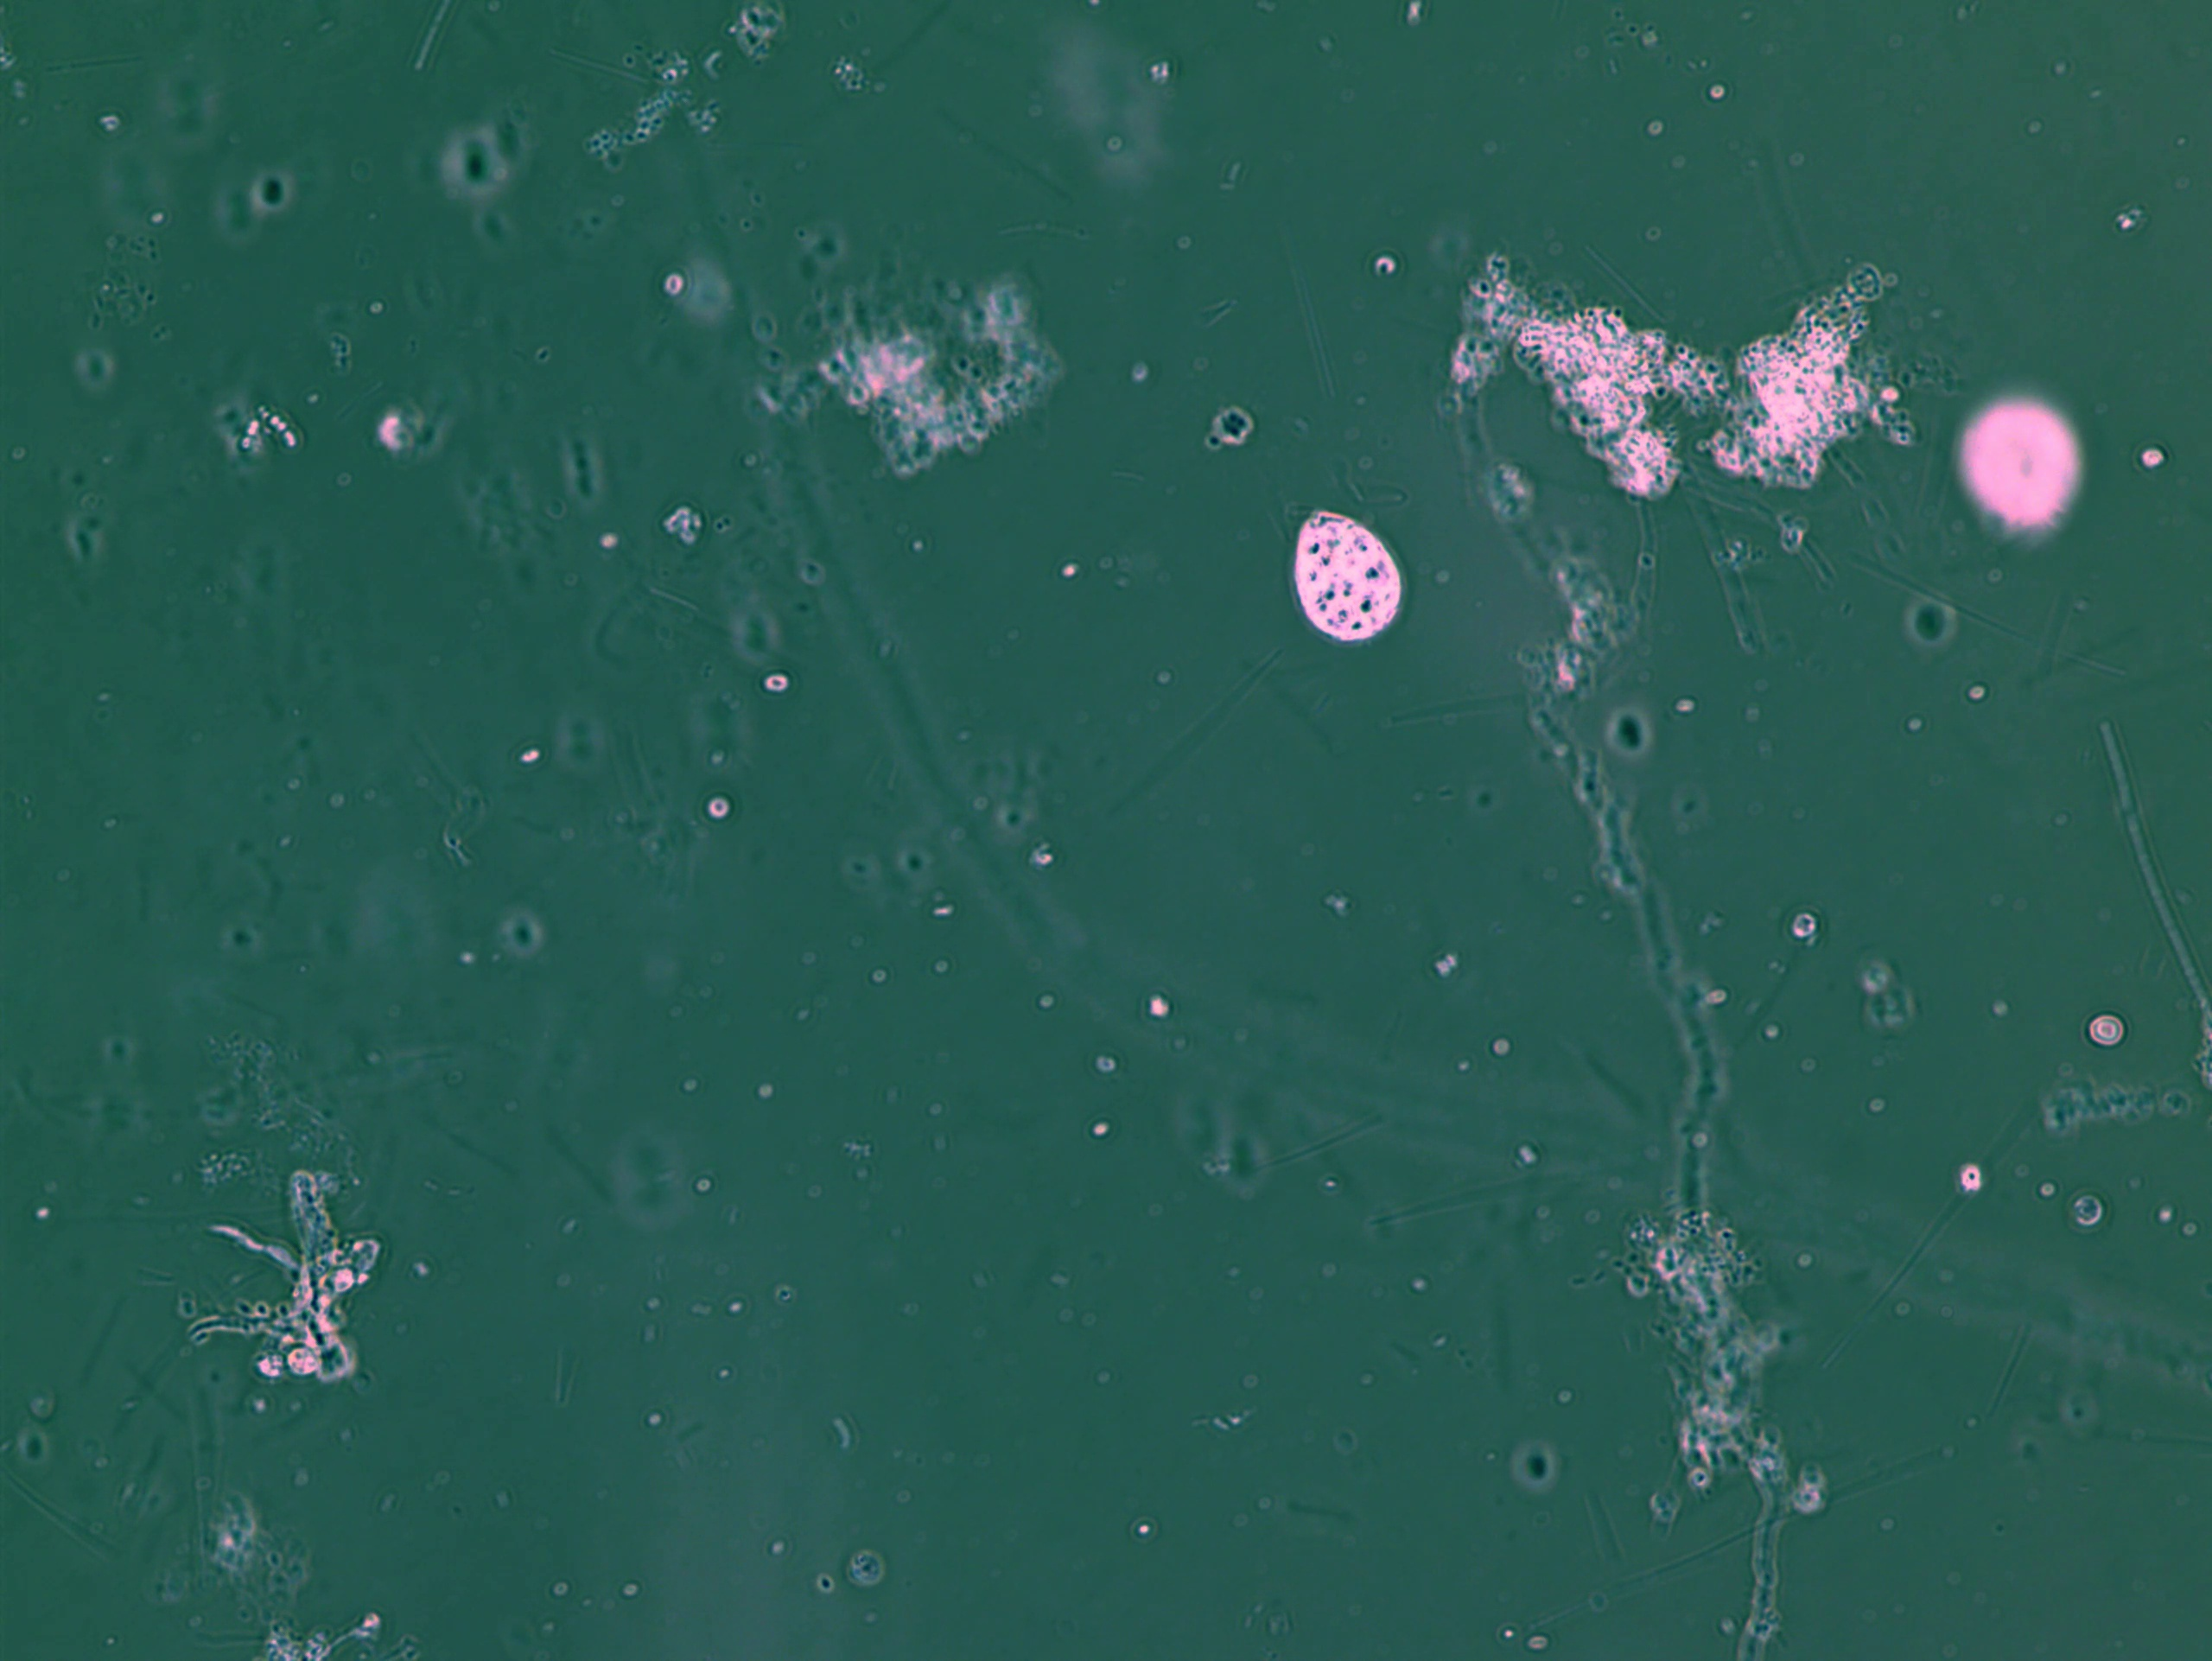depth:0: (1280, 483, 1446, 653)
